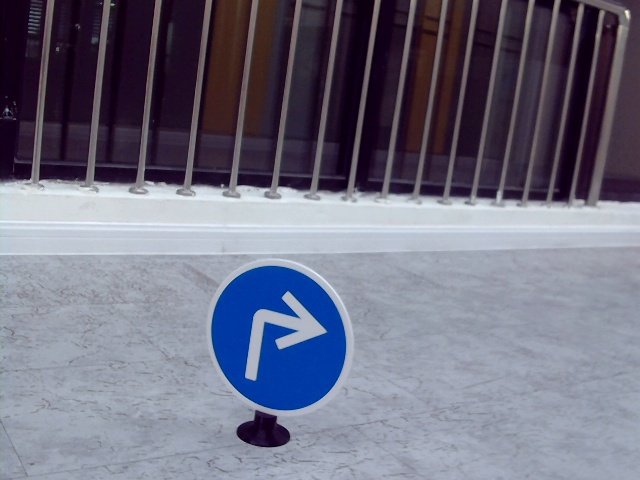turn_right: (243, 283, 328, 393)
